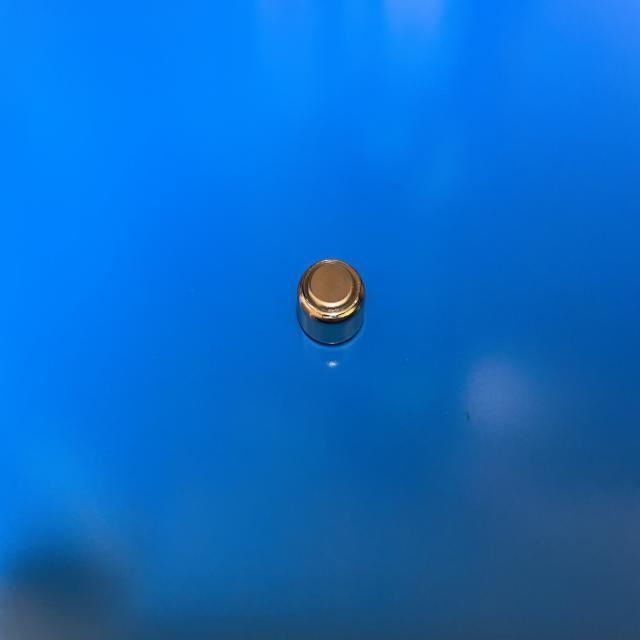COIN: (296, 258, 365, 347)
